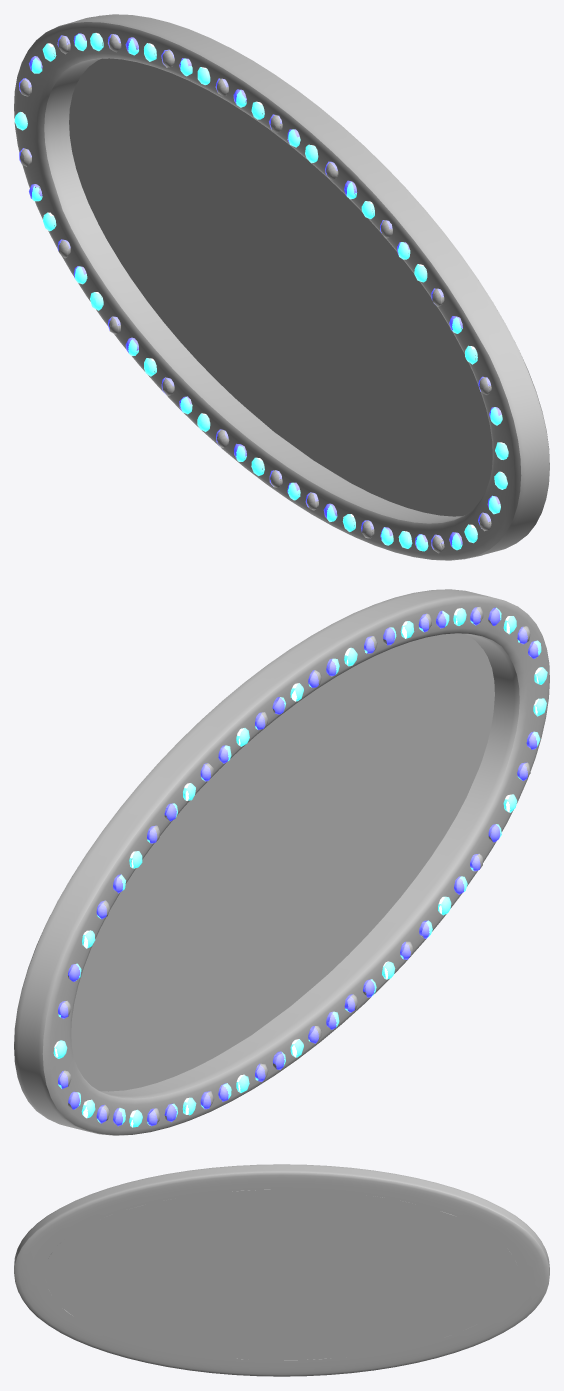
The model's file is SM_Signboard_02d.fbx.
3 renders of one model, top to bottom at view 1: azimuth 30°, elevation 25°; view 2: azimuth 150°, elevation 25°; view 3: azimuth 270°, elevation 25°, orthographic. The views are drawn at different scales.
Visible parts, largest first — view 1: SM_Signboard_02d_LOD0; view 2: SM_Signboard_02d_LOD0; view 3: SM_Signboard_02d_LOD0.
Boxes of the visible parts, x1=… form: SM_Signboard_02d_LOD0: x1=14, y1=14, x2=549, y2=560; SM_Signboard_02d_LOD0: x1=14, y1=589, x2=549, y2=1135; SM_Signboard_02d_LOD0: x1=14, y1=1164, x2=549, y2=1376.
Bounding box in the file's own units: 7.27 × 152 × 64.23.
